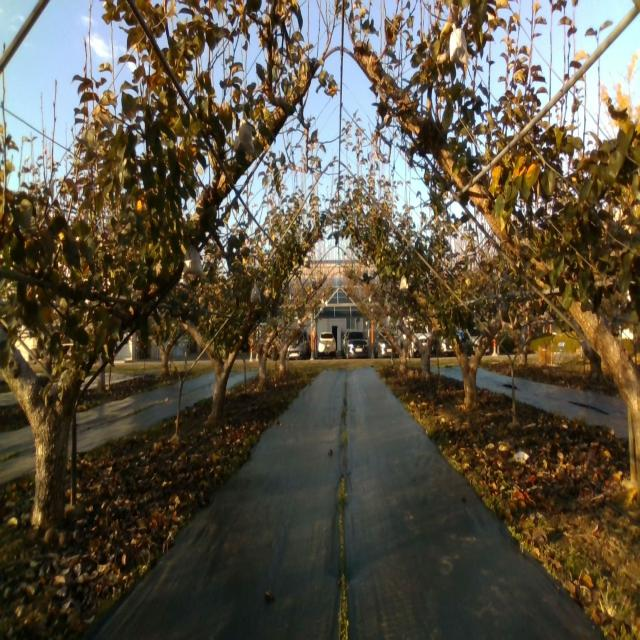pearbags: (448, 22, 470, 65), (182, 246, 206, 280), (233, 123, 256, 151), (250, 285, 262, 304)
